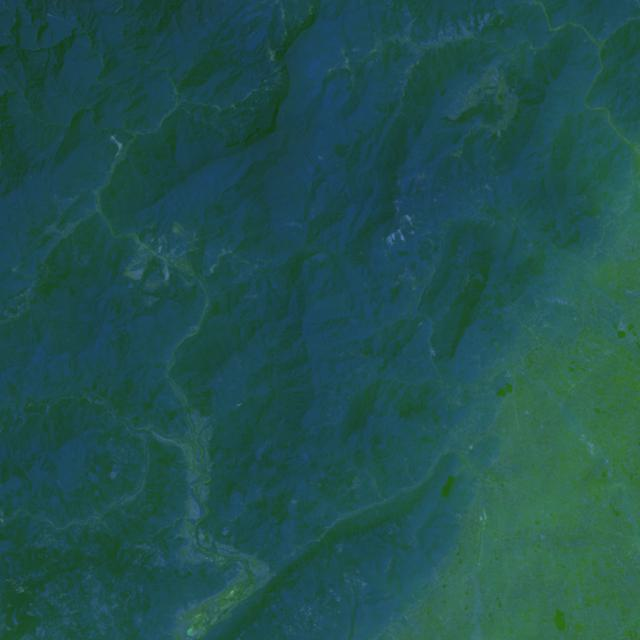landslides: (126, 254, 147, 270), (127, 267, 146, 276), (480, 124, 500, 131), (123, 274, 142, 281), (79, 205, 91, 216)
